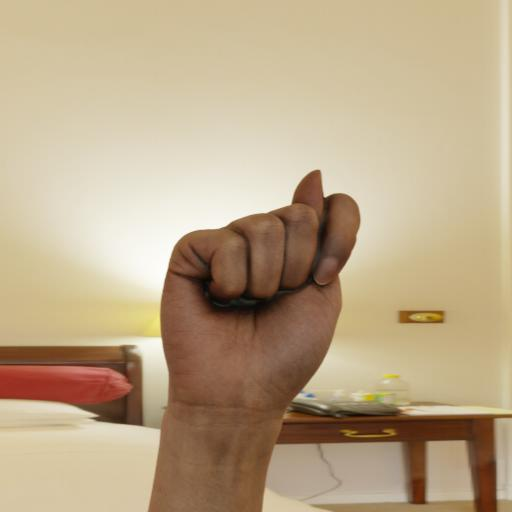T: (141, 159, 380, 512)
